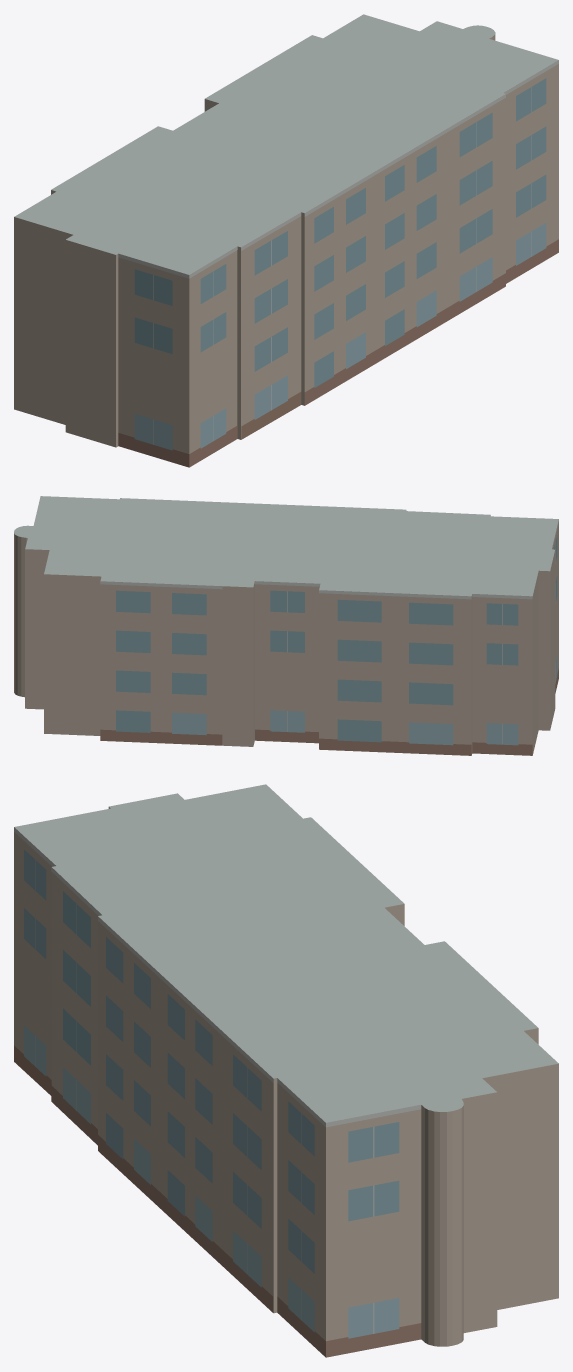
Rendered from survey-upis-32946264.glb.
3 renders of one model, top to bottom at view 1: azimuth 30°, elevation 25°; view 2: azimuth 150°, elevation 25°; view 3: azimuth 270°, elevation 25°, orthographic. The views are drawn at different scales.
Parts seen in each view (by area): view 1: survey-upis-32946264.tmp; view 2: survey-upis-32946264.tmp; view 3: survey-upis-32946264.tmp.
Part boxes in pixels (x1=…): survey-upis-32946264.tmp: x1=14, y1=14, x2=558, y2=467; survey-upis-32946264.tmp: x1=14, y1=496, x2=558, y2=755; survey-upis-32946264.tmp: x1=14, y1=784, x2=558, y2=1357.
Bounding box in the file's own units: 38.99 × 12.6 × 26.52.
